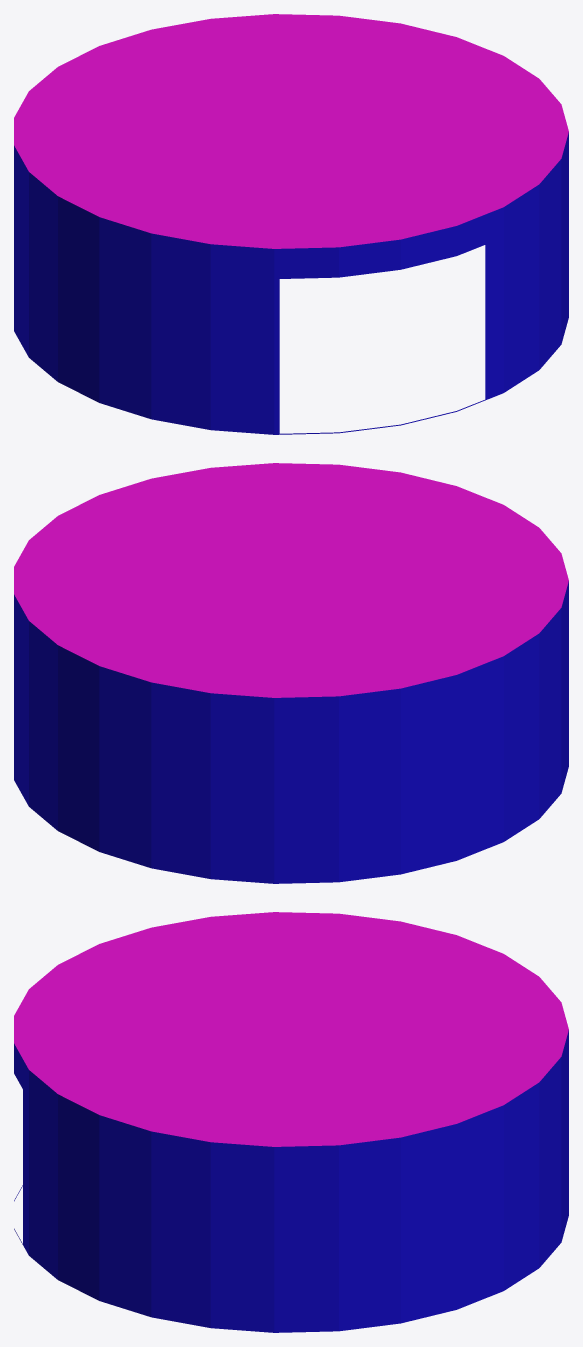
Rendered from cake1inside.fbx.
The picture shows the model from 3 angles, top to bottom: view 1: azimuth 30°, elevation 25°; view 2: azimuth 150°, elevation 25°; view 3: azimuth 270°, elevation 25°; orthographic projection.
Visible parts, largest first — view 1: cake1inside; view 2: cake1inside; view 3: cake1inside.
Part boxes in pixels (x1,y1,x2,y2): cake1inside: (14,14,568,434); cake1inside: (14,463,568,883); cake1inside: (14,912,568,1332).
Size of the model in its own units: 1782 by 658 by 1779.
